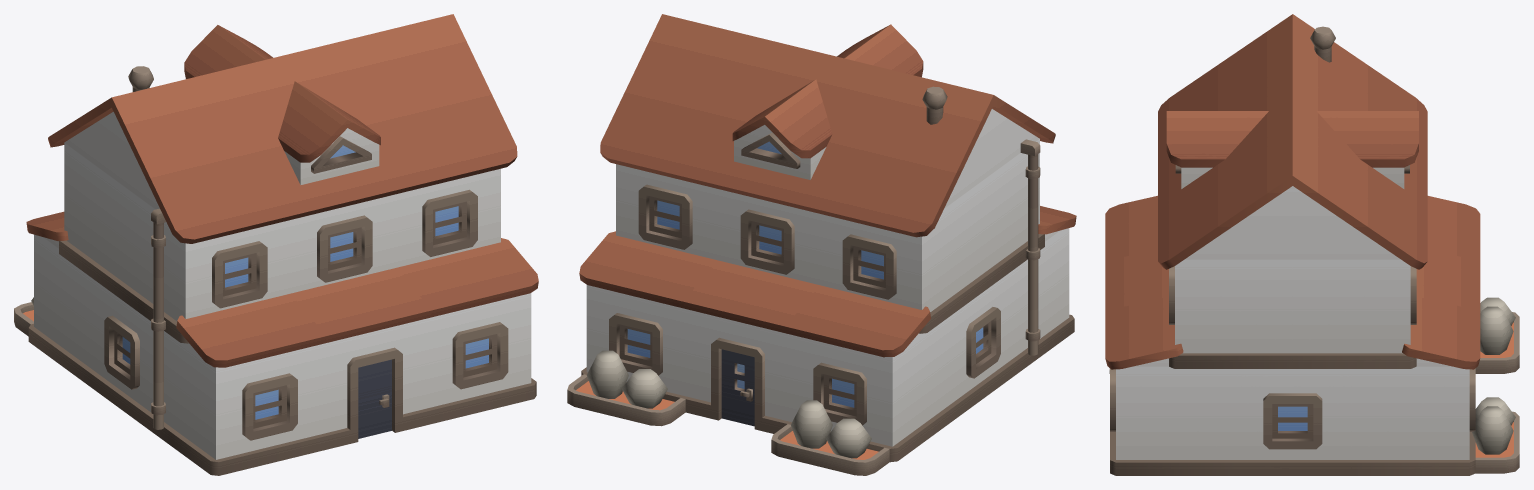
File: sub-building-type-t.glb
3 renders of one model, left to right at view 1: azimuth 30°, elevation 25°; view 2: azimuth 150°, elevation 25°; view 3: azimuth 270°, elevation 25°, orthographic. The views are drawn at different scales.
Parts seen in each view (by area): view 1: building-type-t; view 2: building-type-t; view 3: building-type-t.
Part boxes in pixels (x1,y1,x2,y2): building-type-t: (14, 14, 538, 475); building-type-t: (567, 14, 1076, 475); building-type-t: (1105, 14, 1519, 475).
Size of the model in its own units: 1.31 by 1.16 by 1.41.
Materials: 1 (1 with a texture image).
